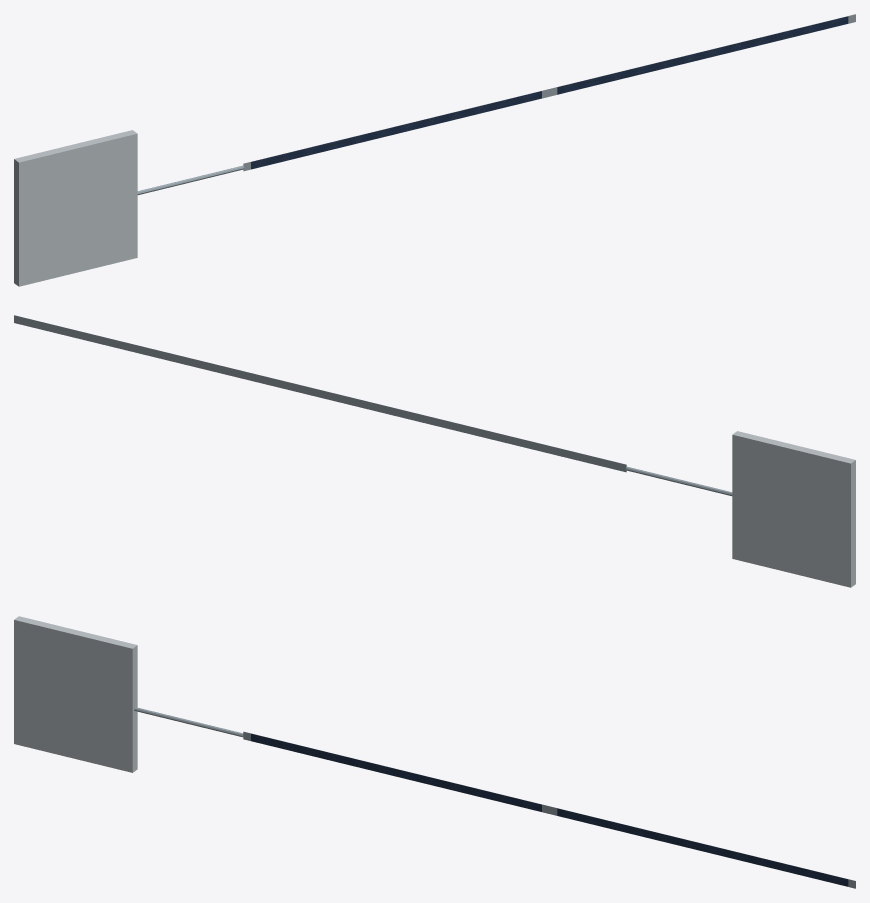
File: ref-starshield-56170.glb
3 views of the same model, one above another, from view 1: azimuth 30°, elevation 25°; view 2: azimuth 150°, elevation 25°; view 3: azimuth 330°, elevation 25° (orthographic).
Parts seen in each view (by area): view 1: Spacecraft body, Photovoltaic laminates (×2), Array frame (×2); view 2: Spacecraft body, Array frame (×2); view 3: Spacecraft body, Photovoltaic laminates (×2), Array frame (×2).
Boxes of the visible parts, box(x1,y1,x2,y2) form: Spacecraft body: box(14, 130, 137, 286); Photovoltaic laminates (×2): box(251, 16, 848, 169); Array frame (×2): box(243, 14, 855, 171); Spacecraft body: box(732, 431, 855, 587); Array frame (×2): box(14, 315, 626, 472); Spacecraft body: box(14, 616, 137, 772); Photovoltaic laminates (×2): box(251, 733, 848, 886); Array frame (×2): box(243, 731, 855, 888).
Bounding box in the file's own units: 29 × 4.1 × 0.3.
Materials: 3 (1 with a texture image).
